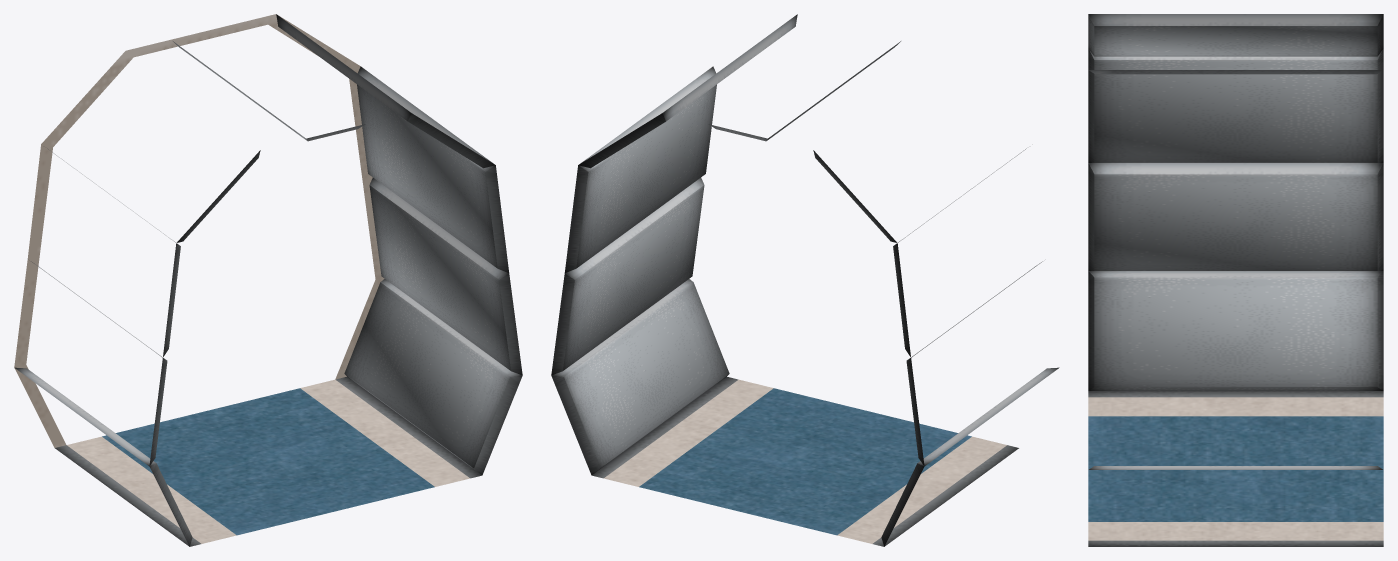
File: galaxyCorridorMiddle.glb
3 renders of one model, left to right at view 1: azimuth 30°, elevation 25°; view 2: azimuth 150°, elevation 25°; view 3: azimuth 270°, elevation 25°, orthographic. The views are drawn at different scales.
Visible parts, largest first — view 1: CorridorMiddle; view 2: CorridorMiddle; view 3: CorridorMiddle.
Boxes of the visible parts, bbox=[...] form: CorridorMiddle: bbox=[14, 14, 522, 546]; CorridorMiddle: bbox=[551, 14, 1059, 546]; CorridorMiddle: bbox=[1088, 14, 1383, 546].
Size of the model in its own units: 2.96 by 2.88 by 1.86.
Materials: 1 (1 with a texture image).
